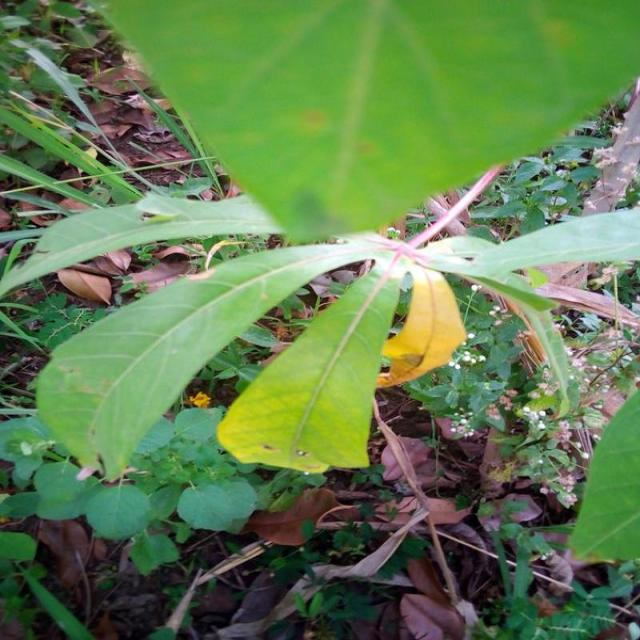cassava leaf: (86, 0, 640, 244), (217, 262, 405, 473), (568, 386, 640, 564)
